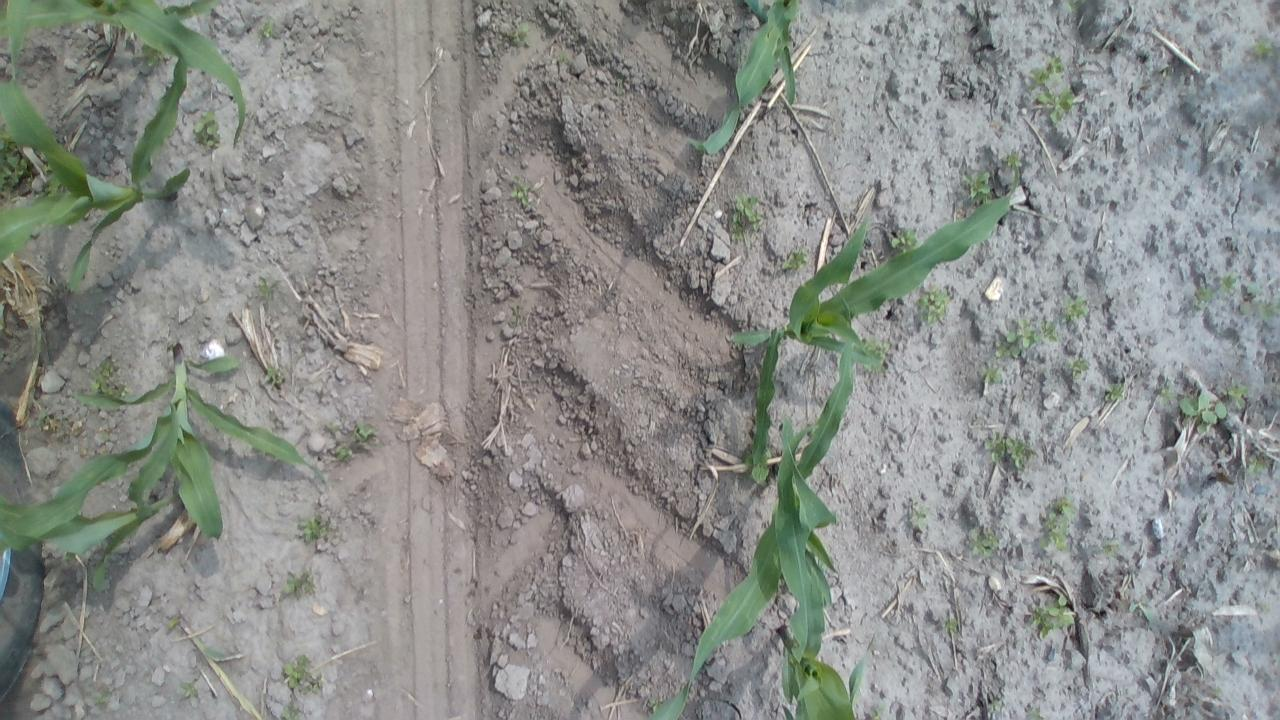Maize: (721, 166, 1025, 490), (636, 339, 862, 720), (0, 335, 329, 549), (0, 36, 202, 298), (0, 0, 253, 153), (2, 402, 200, 586), (775, 422, 896, 720), (682, 0, 813, 164)
Weeds: (721, 188, 770, 247), (1025, 592, 1083, 638), (985, 428, 1042, 474), (1174, 386, 1228, 433), (90, 356, 137, 409), (1038, 494, 1077, 555), (992, 317, 1042, 362), (280, 654, 326, 699), (1033, 81, 1075, 126), (0, 136, 34, 191), (915, 288, 955, 332), (960, 523, 1004, 562), (1240, 281, 1280, 320), (190, 111, 226, 152), (276, 568, 322, 599), (962, 170, 998, 209), (1026, 54, 1070, 85), (508, 168, 538, 212), (888, 223, 924, 256), (298, 512, 336, 543), (140, 40, 174, 74), (1124, 593, 1158, 626), (781, 241, 812, 276), (907, 496, 936, 532), (864, 330, 895, 362), (251, 274, 283, 304), (978, 362, 1007, 395), (742, 458, 775, 487), (1063, 294, 1092, 325), (1224, 377, 1251, 410), (95, 682, 122, 715), (277, 697, 314, 720), (42, 170, 70, 199), (1242, 450, 1271, 478), (1247, 35, 1276, 62), (350, 419, 379, 446), (1065, 356, 1092, 384), (1216, 270, 1245, 294), (1152, 378, 1174, 408), (1040, 318, 1065, 344), (1101, 378, 1125, 405), (942, 613, 966, 640), (262, 364, 286, 391), (177, 676, 204, 699), (332, 443, 358, 464), (511, 18, 530, 46), (252, 20, 274, 44), (1097, 536, 1122, 556), (548, 46, 575, 64), (642, 696, 664, 718), (1194, 285, 1217, 306), (612, 74, 630, 99), (1004, 152, 1024, 174), (1022, 703, 1047, 720), (986, 696, 1008, 715), (870, 700, 893, 717), (1062, 0, 1088, 14)
